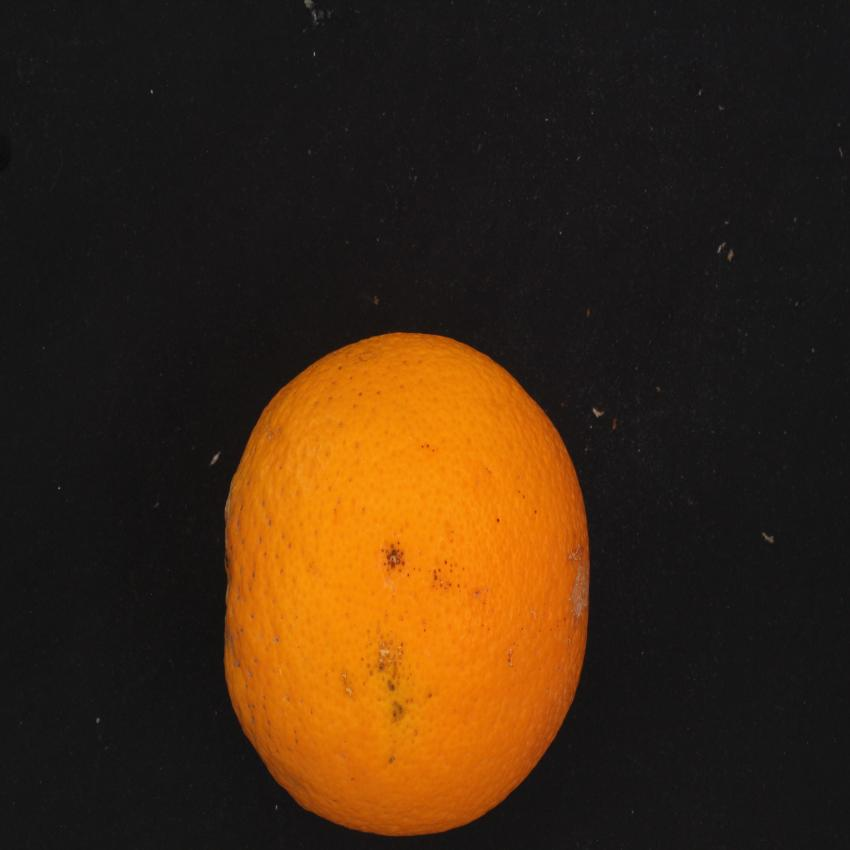Mal estado: (214, 318, 600, 850)
